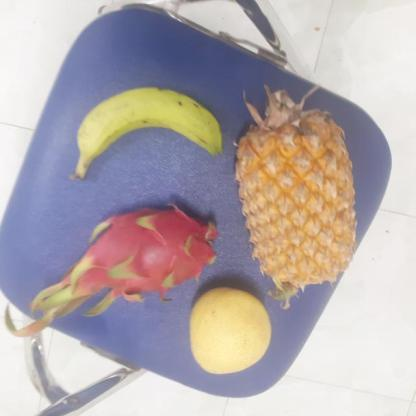banana: (65, 87, 220, 178)
pear: (184, 288, 273, 376)
pineapple: (233, 102, 355, 296)
pitaya: (63, 202, 218, 302)
